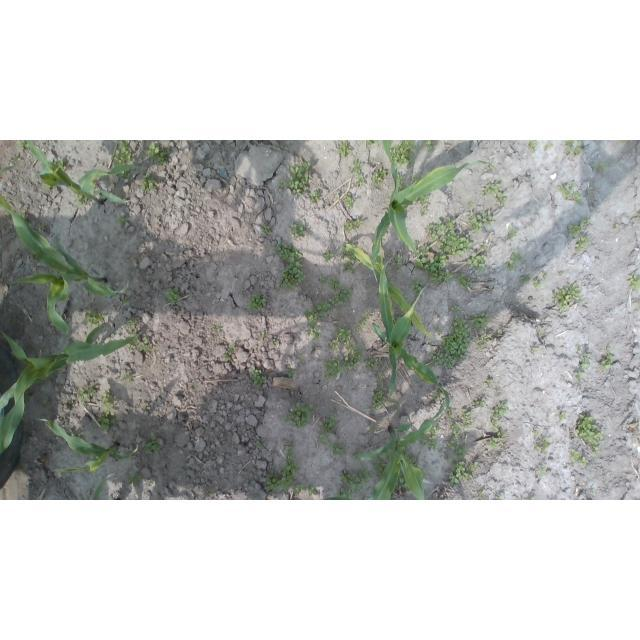Maize: (1, 195, 130, 335), (0, 327, 136, 456), (373, 156, 499, 287), (372, 257, 451, 426), (342, 244, 439, 347), (353, 401, 447, 500), (26, 140, 149, 206), (33, 417, 137, 474)
Weeds: (429, 316, 471, 371), (425, 219, 471, 258), (274, 240, 307, 293), (265, 443, 299, 494), (576, 414, 605, 457), (339, 328, 363, 372), (418, 255, 452, 286), (338, 467, 372, 498), (306, 302, 329, 342), (490, 400, 509, 448), (551, 283, 581, 312), (285, 401, 316, 429), (328, 277, 356, 308), (288, 162, 312, 197), (391, 140, 420, 168), (449, 461, 478, 484), (449, 422, 467, 459), (481, 182, 508, 206), (146, 142, 171, 166), (468, 211, 494, 234), (556, 182, 583, 203), (422, 425, 440, 452), (114, 140, 133, 165), (533, 429, 551, 455), (341, 245, 357, 274), (324, 357, 345, 379), (568, 218, 592, 236), (247, 292, 268, 312), (351, 159, 366, 186), (140, 172, 159, 193), (467, 251, 488, 270), (84, 307, 106, 325), (249, 367, 267, 388), (470, 312, 491, 330), (97, 413, 116, 432), (320, 414, 338, 434), (506, 250, 523, 271), (101, 391, 116, 414), (289, 219, 308, 237), (601, 349, 616, 371), (394, 469, 409, 491), (569, 449, 587, 467), (78, 386, 97, 403), (165, 287, 182, 306), (294, 484, 318, 497), (144, 435, 162, 452), (374, 457, 387, 480), (404, 452, 421, 469), (565, 140, 583, 156), (373, 168, 388, 187), (373, 389, 387, 409), (134, 336, 151, 352), (344, 219, 364, 232), (50, 156, 66, 172), (338, 141, 353, 158), (332, 442, 349, 457), (456, 274, 473, 289), (356, 312, 372, 327), (221, 344, 235, 360), (627, 273, 639, 291), (477, 334, 491, 349), (576, 237, 590, 252), (414, 241, 429, 255), (580, 353, 591, 372), (74, 195, 90, 208), (366, 358, 381, 371), (462, 408, 472, 427), (116, 169, 133, 180), (390, 254, 402, 269), (413, 194, 429, 205), (397, 175, 407, 192), (309, 188, 321, 202), (344, 194, 355, 209), (533, 466, 548, 477), (129, 474, 142, 486), (331, 334, 340, 350), (126, 316, 138, 328), (323, 250, 334, 263), (115, 216, 128, 227), (318, 433, 330, 444), (507, 227, 517, 240), (286, 365, 296, 378), (591, 162, 607, 170), (445, 403, 452, 421), (532, 279, 543, 290), (423, 140, 433, 152), (412, 282, 421, 295), (527, 141, 537, 152), (412, 172, 422, 183), (254, 440, 263, 451), (433, 393, 442, 404), (11, 154, 22, 163), (17, 141, 28, 150), (366, 141, 379, 148), (277, 181, 286, 191), (262, 224, 271, 234), (420, 207, 428, 218), (474, 399, 485, 407), (520, 275, 531, 283), (577, 373, 584, 385), (543, 142, 553, 150), (390, 400, 400, 408), (559, 411, 566, 422), (121, 375, 132, 382), (320, 276, 328, 285), (121, 296, 130, 304), (38, 224, 47, 231), (213, 326, 222, 333), (450, 305, 459, 312), (635, 210, 640, 222), (485, 379, 492, 387), (261, 331, 268, 339), (271, 338, 278, 346), (479, 243, 487, 250), (477, 491, 484, 499), (496, 329, 503, 336), (376, 374, 383, 381), (531, 347, 538, 353), (613, 223, 619, 229), (42, 397, 48, 403), (542, 274, 546, 278)
